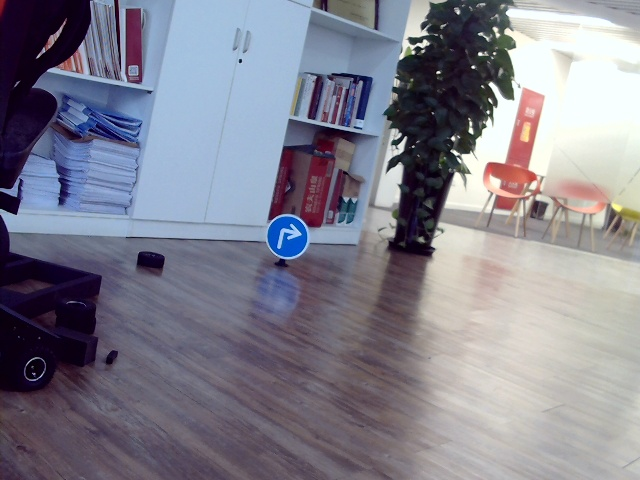turn_right: (274, 222, 301, 250)
